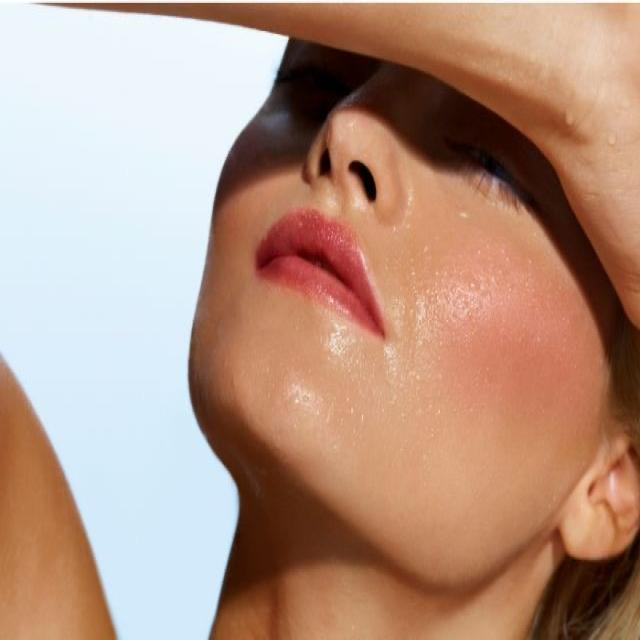Oily-Skin: (222, 286, 374, 456), (400, 329, 509, 519), (407, 189, 510, 328), (268, 125, 328, 280), (513, 326, 588, 428), (529, 239, 583, 362)
